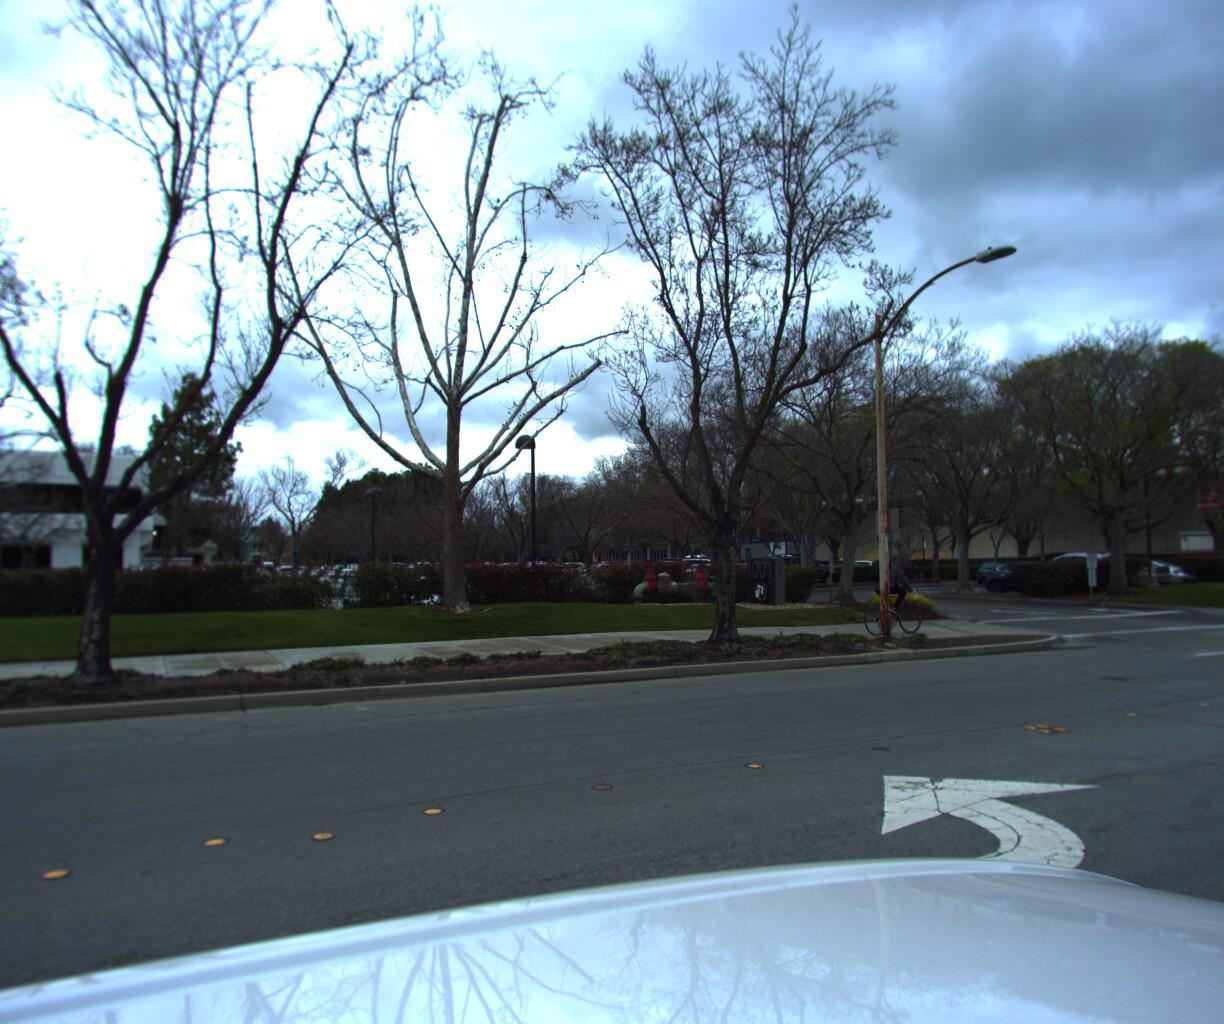bicycle: (845, 550, 932, 634)
